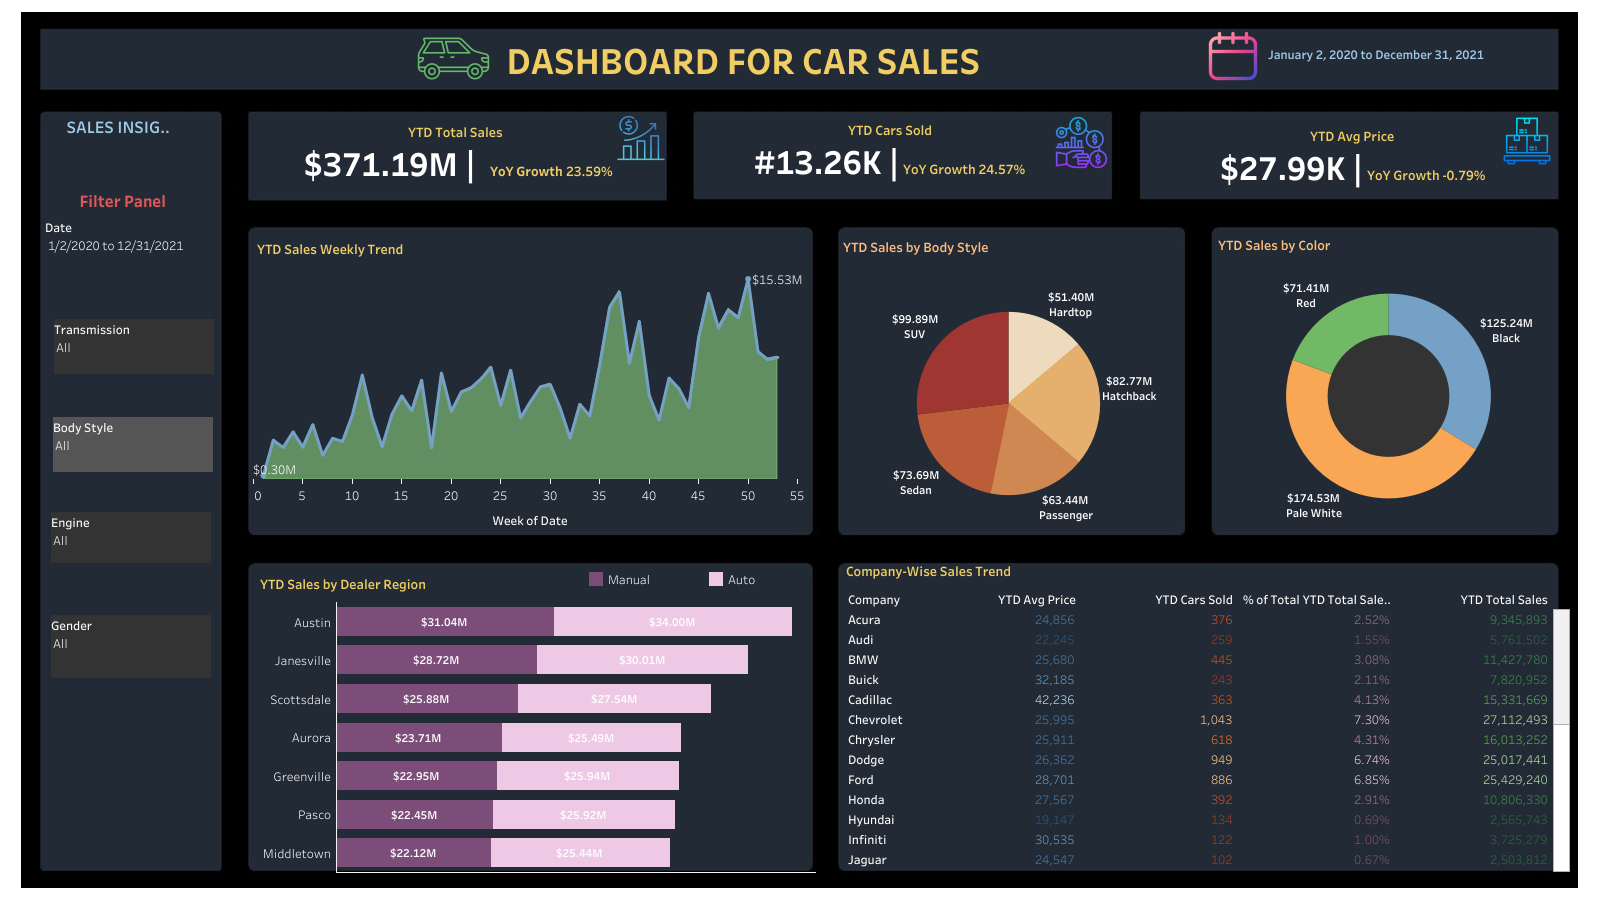

What the dashboard file says about the page in this screenshot:
{"tool":"tableau","page":{"name":"DASHBOARD","canvas":[1600,900],"ordinal":0},"visuals":[{"type":"image","param":"Image/Car Sales Background.jpg","box":[8,8,1584,884]},{"type":"worksheet","title":"Date Range","mark":"Automatic","box":[1193,13,366,65]},{"type":"image","param":"Image/Car Icon.png","box":[411,16,169,85]},{"type":"image","param":"Image/calendar.png","box":[1206,29,54,58]},{"type":"text","box":[420,36,647,47]},{"type":"text","box":[64,104,118,45]},{"type":"worksheet","title":"YTD Total Sales","mark":"Automatic","box":[251,112,408,84]},{"type":"image","param":"Image/Sales Icon.png","box":[615,112,65,52]},{"type":"worksheet","title":"YTD Avg Price","mark":"Automatic","box":[1144,114,418,87]},{"type":"image","param":"Image/Cars Sold Icon.png","box":[1055,116,57,53]},{"type":"image","param":"Image/Avg Price Icon.png","box":[1502,116,62,50]},{"type":"worksheet","title":"YTD Cars Sold","mark":"Automatic","box":[692,119,397,84]},{"type":"text","box":[77,181,100,38]},{"type":"filter","title":"YTD Sales Weekly Trend","param":"[federated.0f5qr671j1g1gh185qvwu0cp6du6].[none:Date:qk]","box":[45,217,160,62]},{"type":"worksheet","title":"YTD Sales by Color","mark":"Pie","rows":["Calculation_14988576954003509","Calculation_14988576954118199"],"box":[1214,229,349,300]},{"type":"worksheet","title":"YTD Sales by Body Style","mark":"Pie","box":[839,231,339,311]},{"type":"worksheet","title":"YTD Sales Weekly Trend","mark":"Automatic","rows":["Calculation_14777470642049041","Calculation_14777470642049041"],"cols":["Date"],"box":[253,233,554,303]},{"type":"filter","title":"YTD Sales Weekly Trend","param":"[federated.0f5qr671j1g1gh185qvwu0cp6du6].[none:Transmission:nk]","box":[54,319,160,55]},{"type":"filter","title":"YTD Sales Weekly Trend","param":"[federated.0f5qr671j1g1gh185qvwu0cp6du6].[none:Body Style:nk]","box":[53,417,160,55]},{"type":"filter","title":"YTD Sales Weekly Trend","param":"[federated.0f5qr671j1g1gh185qvwu0cp6du6].[none:Engine:nk]","box":[51,512,160,51]},{"type":"worksheet","title":"Company-Wise Sales Trend","mark":"Automatic","rows":["Company"],"box":[842,555,728,316]},{"type":"worksheet","title":"YTD Cars Sold by Dealer Region","mark":"Automatic","rows":["Dealer_Region"],"cols":["Calculation_14777470642049041"],"box":[256,568,559,304]},{"type":"legend","title":"YTD Cars Sold by Dealer Region","param":"[federated.0f5qr671j1g1gh185qvwu0cp6du6].[none:Transmission:nk]","box":[586,569,229,59]},{"type":"filter","title":"YTD Sales Weekly Trend","param":"[federated.0f5qr671j1g1gh185qvwu0cp6du6].[none:Gender:nk]","box":[51,615,160,63]}]}

Visuals, with their boxes in screenshot pixels (x1, y1, x2, y2), scaled from the page's 1600x900 canvas onto the 1599x899 screenshot:
image: 8 8 1591 891
"Date Range" worksheet: 1192 13 1558 78
image: 411 16 580 101
image: 1205 29 1259 87
text: 420 36 1066 83
text: 64 104 182 149
"YTD Total Sales" worksheet: 251 112 659 196
image: 615 112 680 164
"YTD Avg Price" worksheet: 1143 114 1561 201
image: 1054 116 1111 169
image: 1501 116 1563 166
"YTD Cars Sold" worksheet: 692 119 1088 203
text: 77 181 177 219
"YTD Sales Weekly Trend" filter: 45 217 205 279
"YTD Sales by Color" worksheet (Pie marks): 1213 229 1562 528
"YTD Sales by Body Style" worksheet (Pie marks): 838 231 1177 541
"YTD Sales Weekly Trend" worksheet: 253 233 806 535
"YTD Sales Weekly Trend" filter: 54 319 214 374
"YTD Sales Weekly Trend" filter: 53 417 213 471
"YTD Sales Weekly Trend" filter: 51 511 211 562
"Company-Wise Sales Trend" worksheet: 841 554 1569 870
"YTD Cars Sold by Dealer Region" worksheet: 256 567 814 871
"YTD Cars Sold by Dealer Region" legend: 586 568 814 627
"YTD Sales Weekly Trend" filter: 51 614 211 677
